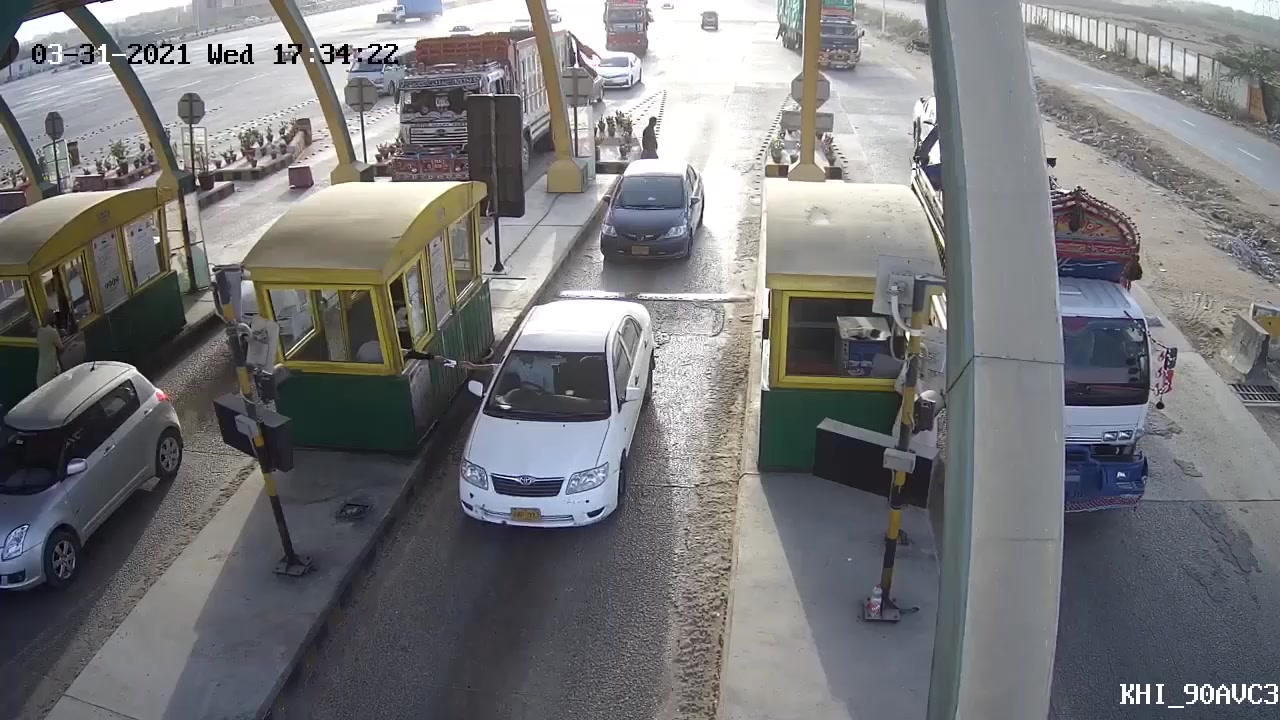F1: (447, 298, 660, 534)
